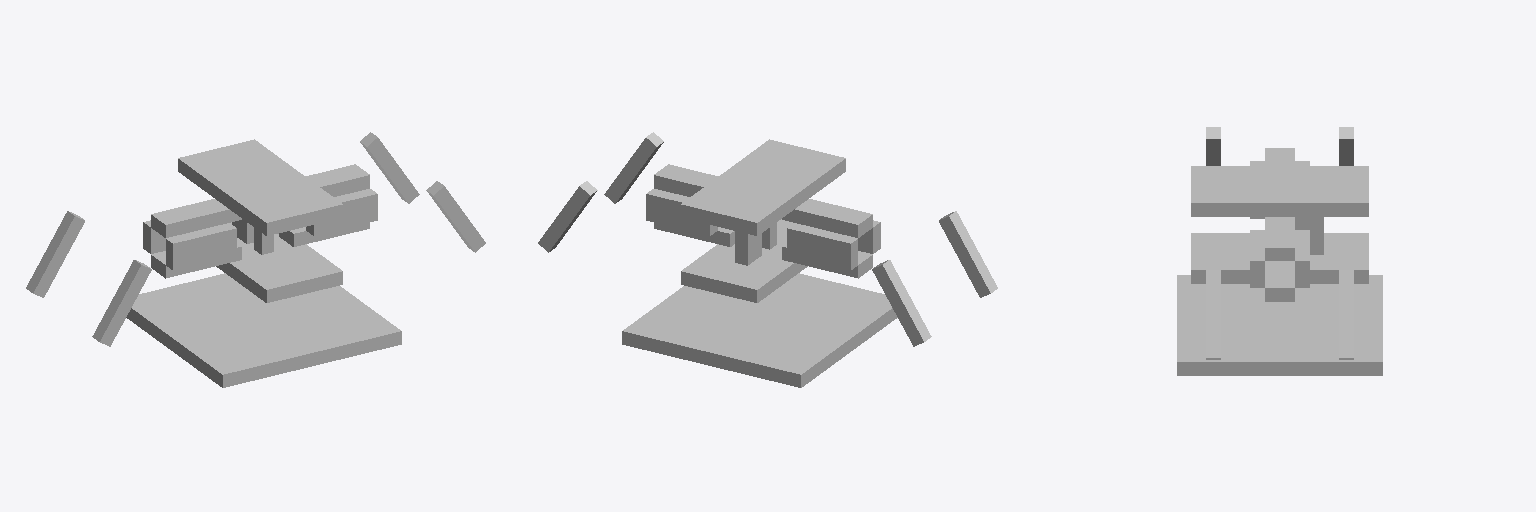
File: vacuum_pump.obj
3 views of the same model, side by side, from view 1: azimuth 30°, elevation 25°; view 2: azimuth 150°, elevation 25°; view 3: azimuth 270°, elevation 25° (orthographic).
Size of the model in its own units: 1.89 by 0.6875 by 0.875.